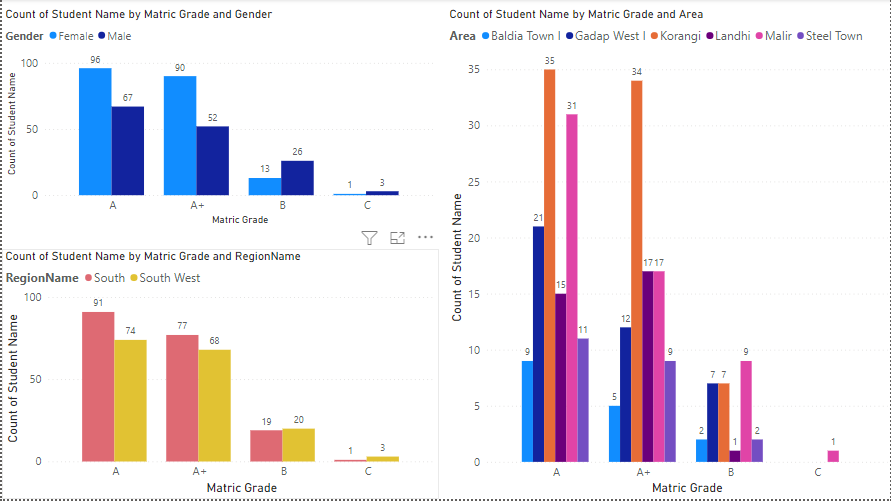

This screenshot's page, from the dashboard's own definition file:
{"tool":"powerbi","page":{"name":"Matric","canvas":[1280,720],"ordinal":1},"visuals":[{"type":"clusteredColumnChart","fields":{"Category":["Sheet1.Matric Grade"],"Y":["Count(Sheet1.Student Name)"],"Series":["Sheet1.Gender"]},"box":[0,11.5,629.5,319],"z":0},{"type":"clusteredColumnChart","fields":{"Y":["Count(Sheet1.Student Name)"],"Category":["Sheet1.Matric Grade"],"Series":["Sheet1.RegionName"]},"box":[0,360.7,629.5,359.3],"z":1000},{"type":"clusteredColumnChart","fields":{"Y":["Count(Sheet1.Student Name)"],"Category":["Sheet1.Matric Grade"],"Series":["Sheet1.Area"]},"box":[639.5,11.5,641,708.5],"z":2000}]}

Visuals, with their boxes in screenshot pixels (x1, y1, x2, y2), scaled from the page's 1280x720 canvas onto the 891x501 screenshot:
clusteredColumnChart - Sheet1.Matric Grade x Count(Sheet1.Student Name): [left=0, top=8, right=438, bottom=230]
clusteredColumnChart - Count(Sheet1.Student Name) x Sheet1.Matric Grade: [left=0, top=251, right=438, bottom=500]
clusteredColumnChart - Count(Sheet1.Student Name) x Sheet1.Matric Grade: [left=445, top=8, right=890, bottom=500]
